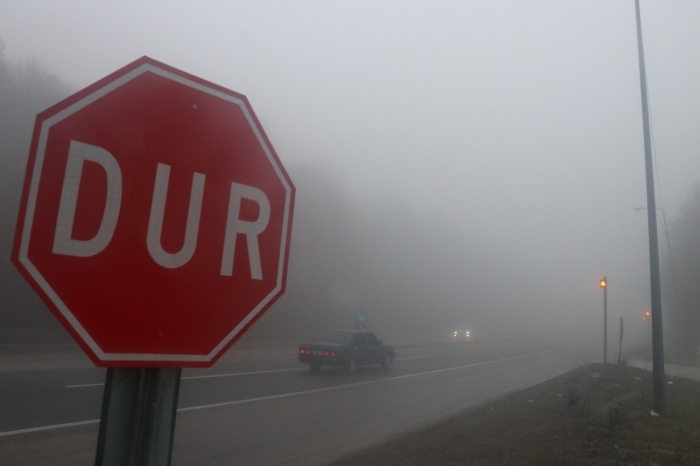dur: (15, 50, 295, 375)
otomobil: (287, 310, 413, 387)
